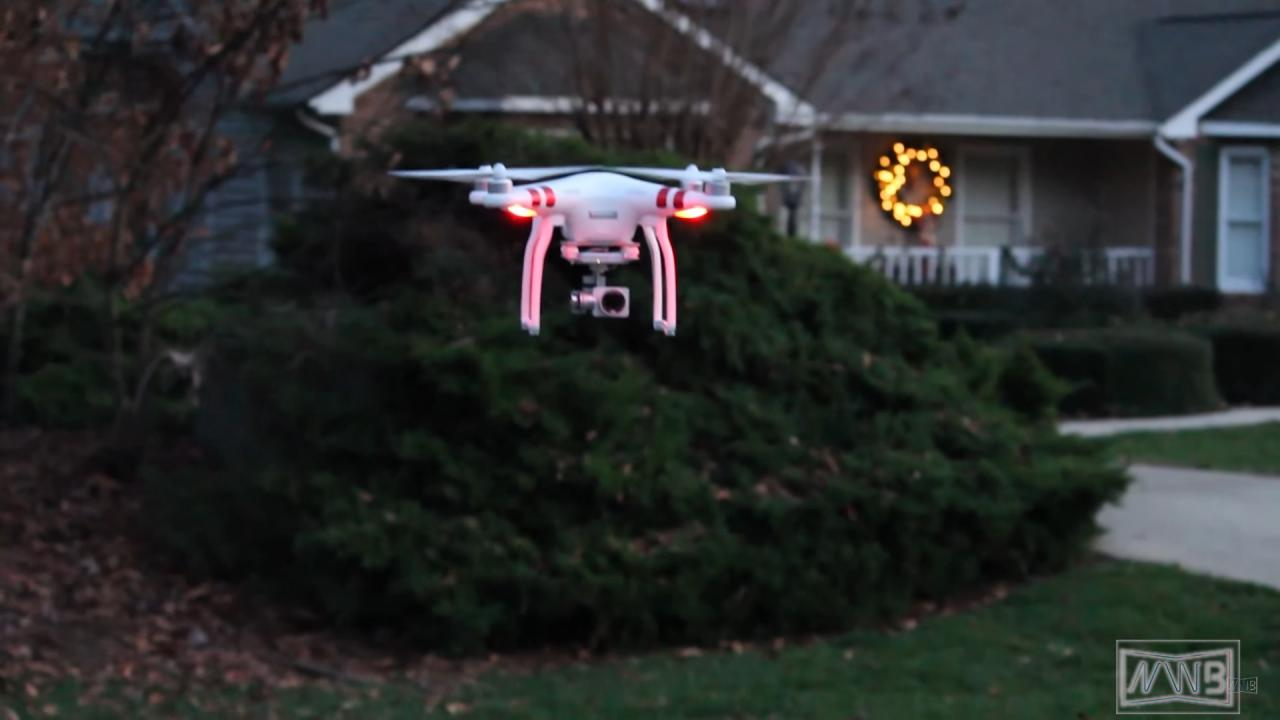Drone: (374, 139, 826, 354)
